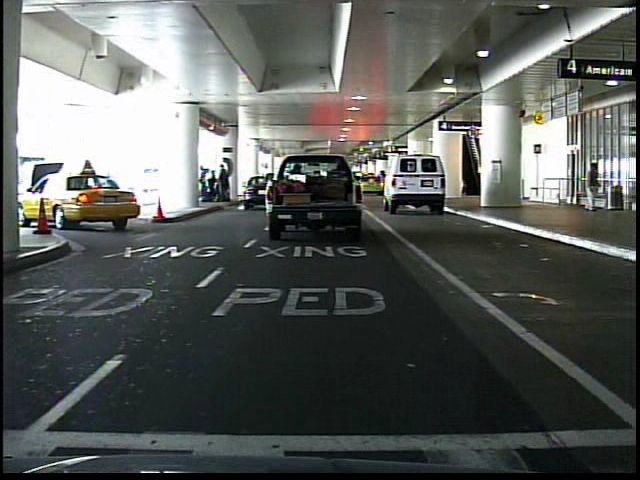person: (580, 160, 603, 215)
